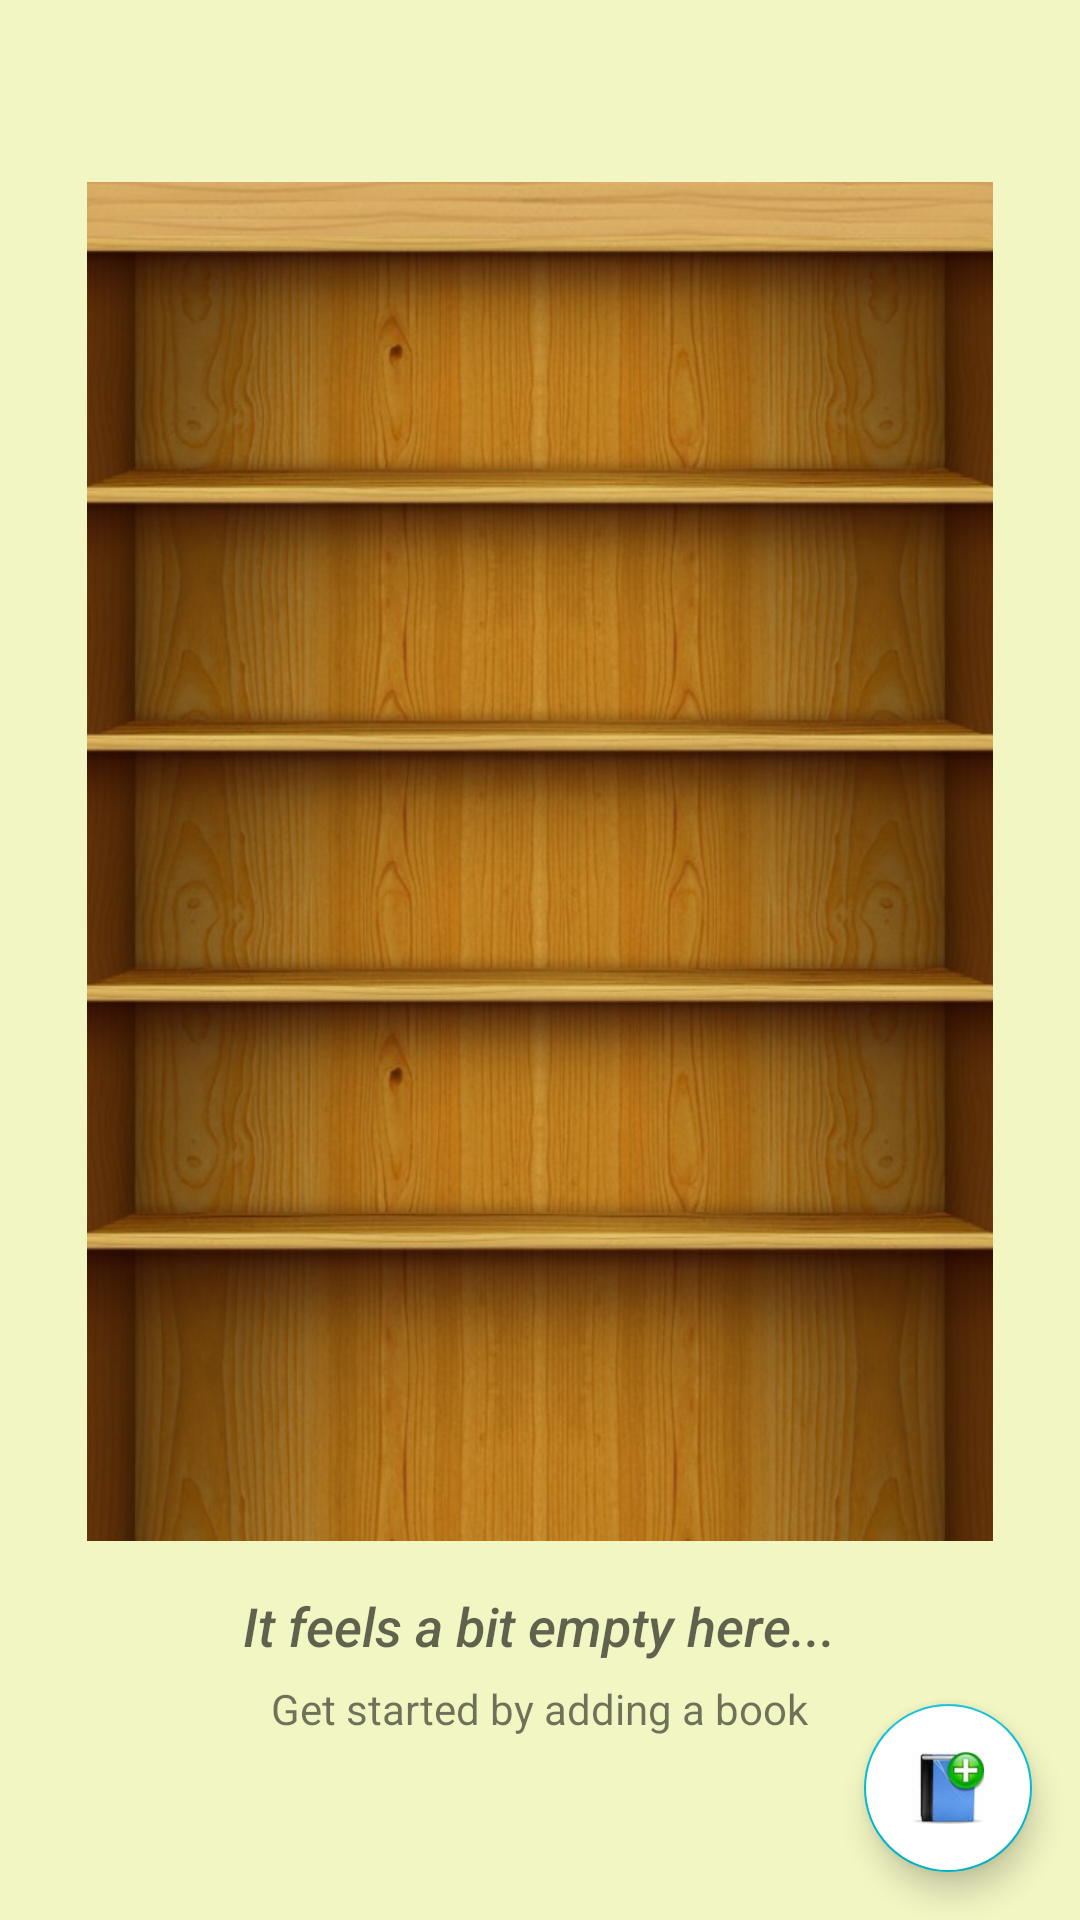

Screen size 1080px×1920px. Icon name, then its center in pixels as (x=x, y=y):
add book: (x=948, y=1788)
